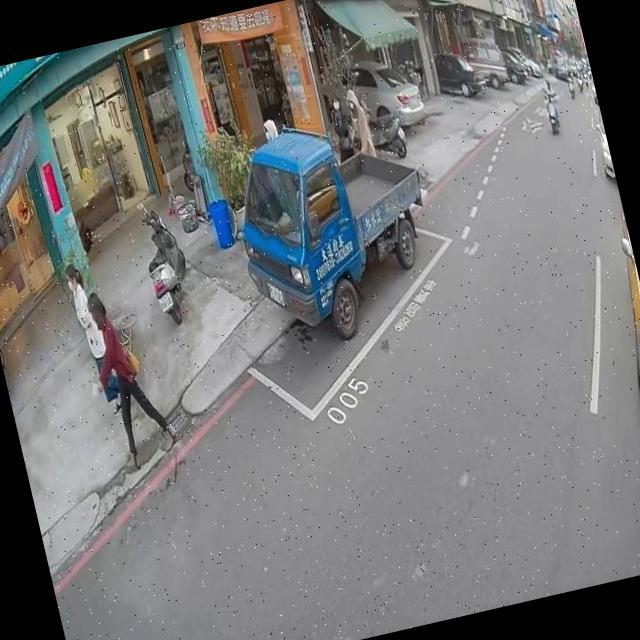person: (74, 269, 178, 474), (56, 254, 134, 426), (342, 86, 379, 161), (324, 90, 359, 162), (256, 112, 281, 146), (540, 76, 558, 102), (574, 66, 582, 79)
